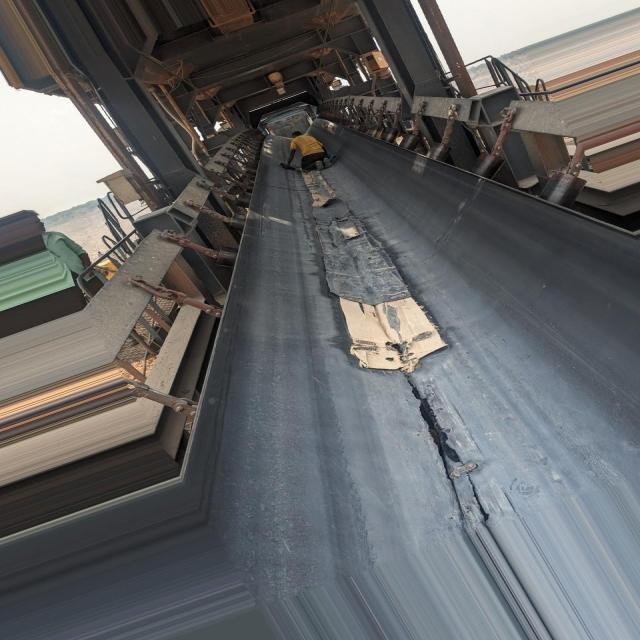Human: (284, 131, 333, 172)
Roller: (348, 122, 584, 206), (216, 147, 261, 264)
Tear: (409, 380, 462, 464)
patch work: (314, 199, 449, 368)
